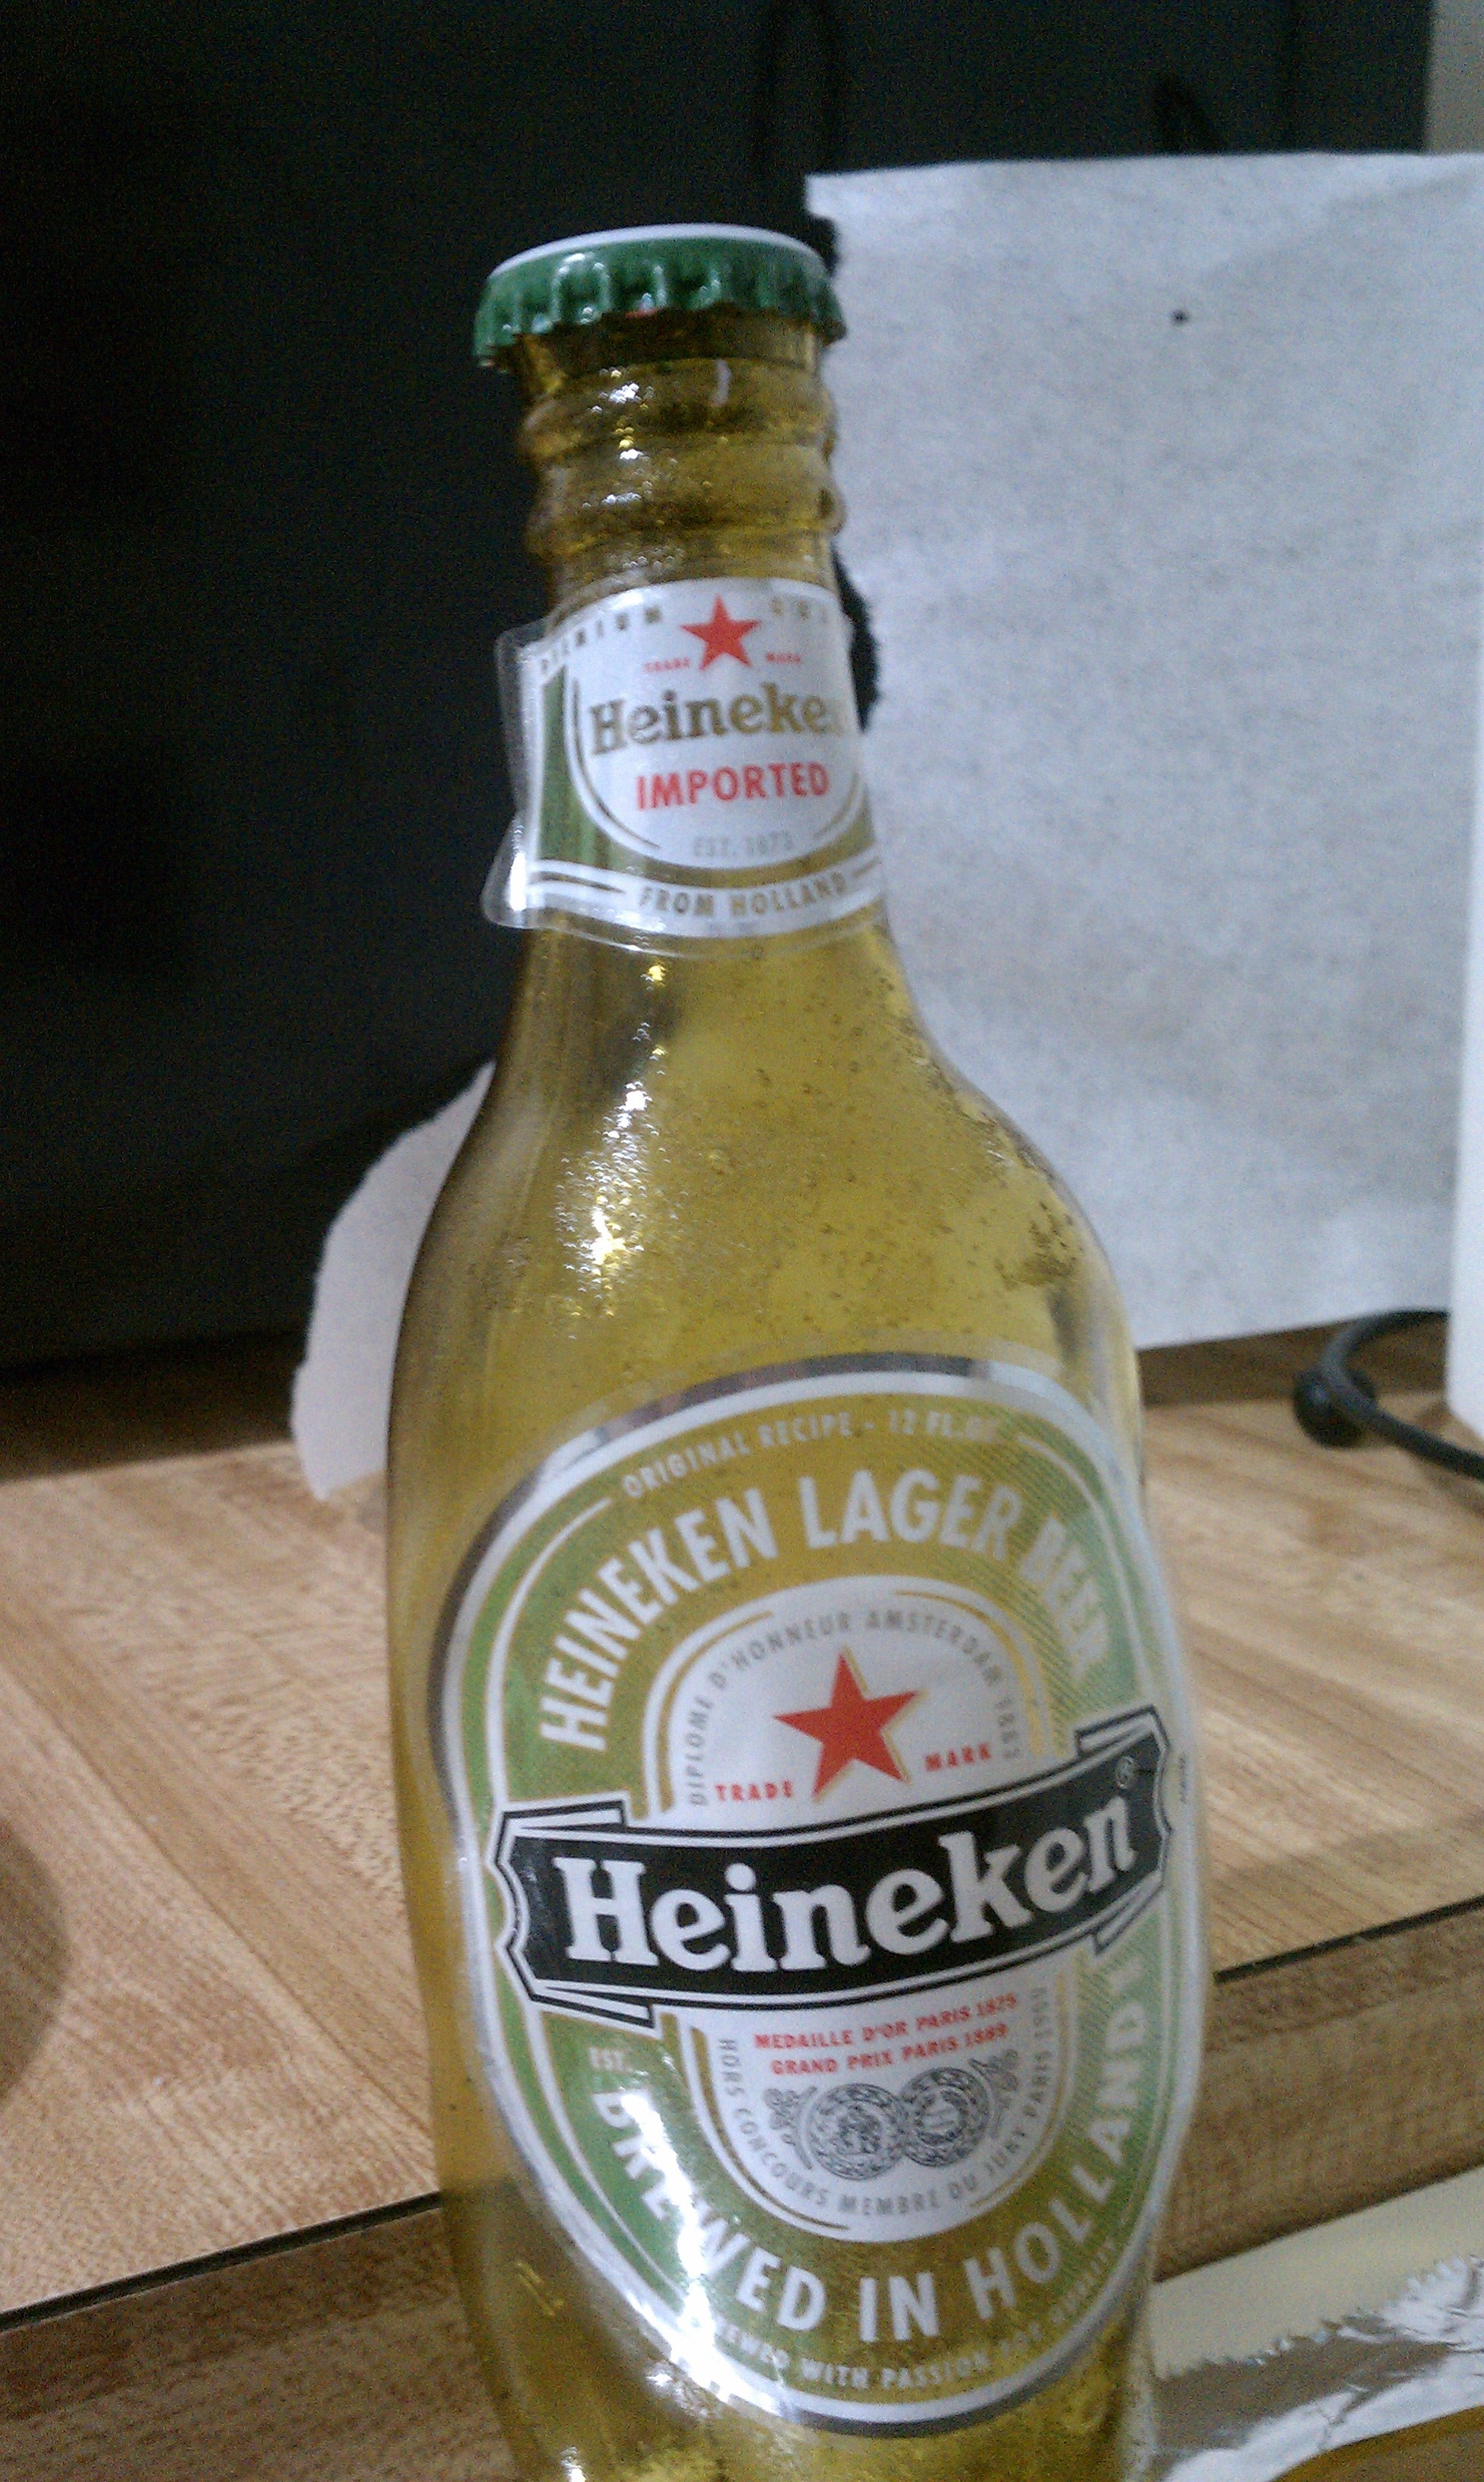glass_bottle: (360, 221, 1242, 2482)
